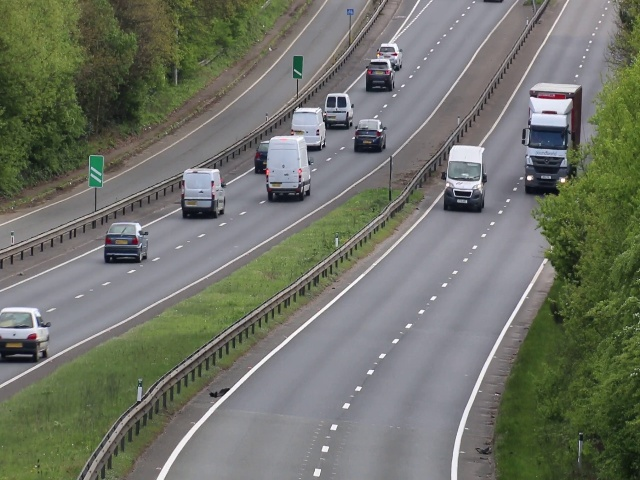car: (525, 84, 579, 191), (442, 144, 487, 211), (1, 308, 53, 361), (267, 137, 311, 199), (181, 168, 225, 217), (104, 222, 149, 263), (291, 105, 327, 148), (354, 117, 387, 152), (323, 92, 354, 127), (365, 58, 395, 93), (378, 44, 402, 63), (254, 140, 266, 173)
